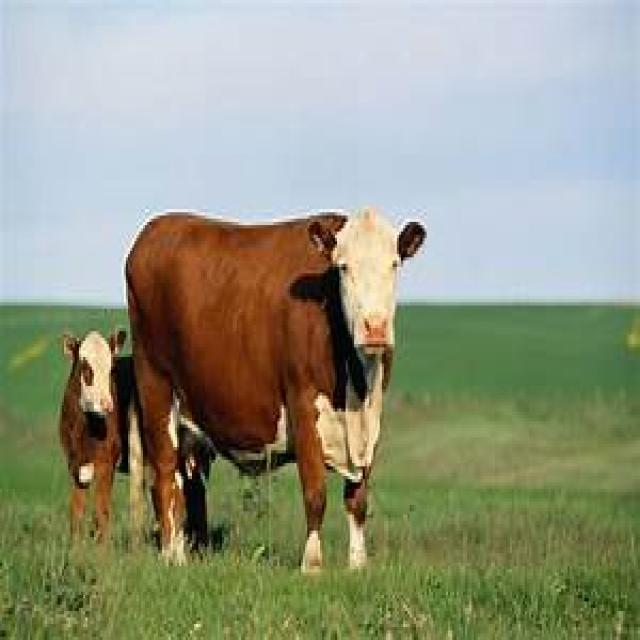cow: (123, 202, 424, 572), (58, 325, 213, 556)
